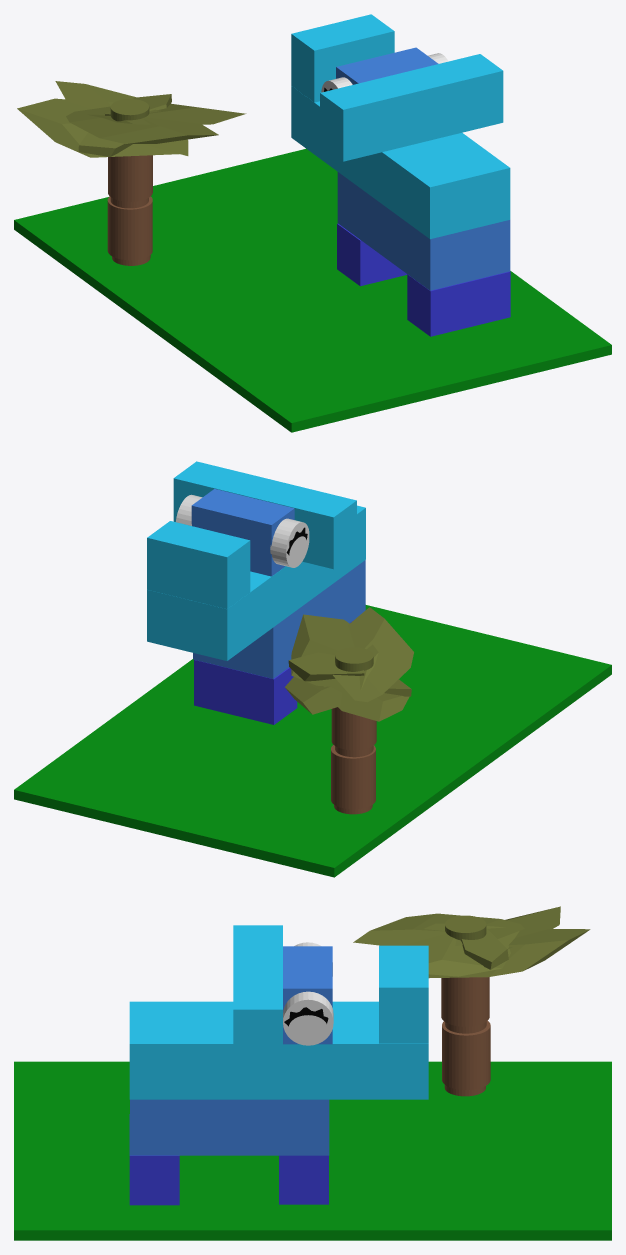
File: elephant&Tree.fbx
The picture shows the model from 3 angles, top to bottom: view 1: azimuth 30°, elevation 25°; view 2: azimuth 150°, elevation 25°; view 3: azimuth 270°, elevation 25°; orthographic projection. The views are drawn at different scales.
Parts seen in each view (by area): view 1: Cube, ElephantBody_T, ElephentLeg_F.004, ElephantBody_B, ElephentLeg_F.002, ElephentLeg_F.001, Cylinder.009, Cylinder.004, Cylinder, ElephentLeg_F, Cylinder.002, ElephentLeg_F.003 (+4 smaller); view 2: Cube, ElephantBody_T, ElephentLeg_F.002, ElephentLeg_F.004, ElephantBody_B, ElephentLeg_F, ElephentLeg_F.003, Cylinder.009, Cylinder.007, Cylinder, Cylinder.002, Cylinder.014 (+4 smaller); view 3: Cube, ElephantBody_T, ElephantBody_B, ElephentLeg_F.004, ElephentLeg_F.002, Cylinder, ElephentLeg_F.003, ElephentLeg_F.001, ElephentLeg_F, Cylinder.009, Cylinder.006, Cylinder.002 (+5 smaller).
Boxes of the visible parts, left/top/right/bottom form: Cube: left=14, top=148, right=611, bottom=432; ElephantBody_T: left=291, top=86, right=510, bottom=239; ElephentLeg_F.004: left=320, top=54, right=503, bottom=161; ElephantBody_B: left=337, top=172, right=510, bottom=290; ElephentLeg_F.002: left=291, top=14, right=394, bottom=102; ElephentLeg_F.001: left=407, top=271, right=510, bottom=336; Cylinder.009: left=66, top=106, right=218, bottom=144; Cylinder.004: left=17, top=98, right=179, bottom=157; Cylinder: left=107, top=196, right=152, bottom=260; ElephentLeg_F: left=337, top=223, right=407, bottom=286; Cylinder.002: left=108, top=155, right=152, bottom=201; ElephentLeg_F.003: left=336, top=47, right=438, bottom=84; Cube: left=14, top=605, right=611, bottom=877; ElephantBody_T: left=147, top=505, right=365, bottom=660; ElephentLeg_F.002: left=147, top=521, right=250, bottom=608; ElephentLeg_F.004: left=173, top=461, right=356, bottom=569; ElephantBody_B: left=193, top=560, right=365, bottom=678; ElephentLeg_F: left=194, top=660, right=297, bottom=724; ElephentLeg_F.003: left=191, top=489, right=294, bottom=576; Cylinder.009: left=332, top=607, right=413, bottom=702; Cylinder.007: left=291, top=614, right=378, bottom=696; Cylinder: left=331, top=745, right=375, bottom=809; Cylinder.002: left=331, top=707, right=376, bottom=750; Cylinder.014: left=270, top=518, right=309, bottom=567; Cube: left=14, top=1061, right=611, bottom=1240; ElephantBody_T: left=129, top=1001, right=428, bottom=1099; ElephantBody_B: left=130, top=1099, right=329, bottom=1155; ElephentLeg_F.004: left=233, top=925, right=282, bottom=1065; ElephentLeg_F.002: left=379, top=945, right=428, bottom=1043; Cylinder: left=442, top=1020, right=490, bottom=1089; ElephentLeg_F.003: left=283, top=946, right=332, bottom=1044; ElephentLeg_F.001: left=129, top=1114, right=179, bottom=1205; ElephentLeg_F: left=279, top=1155, right=328, bottom=1204; Cylinder.009: left=353, top=913, right=524, bottom=946; Cylinder.006: left=428, top=929, right=590, bottom=978; Cylinder.002: left=441, top=977, right=489, bottom=1026.
Bounding box in the file's own units: 573 × 338 × 806.
